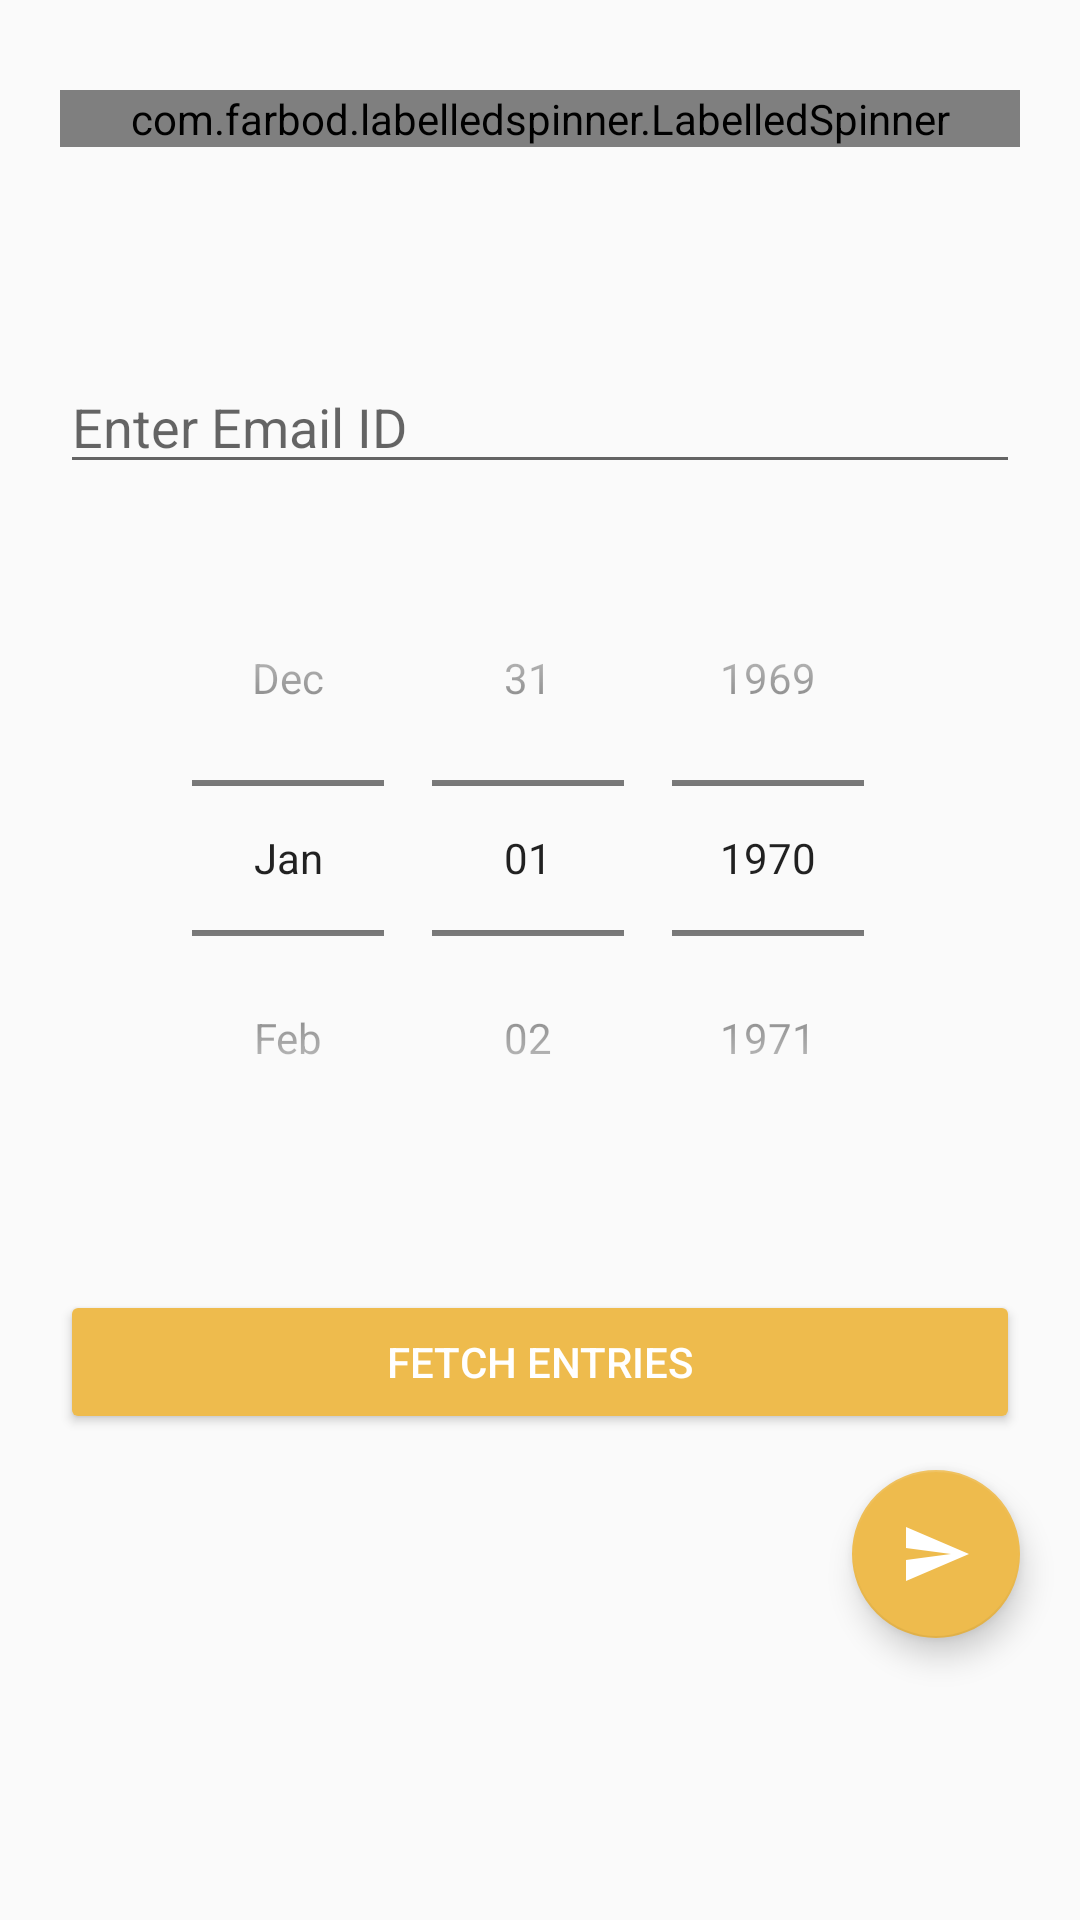

Icons on this 1080px×1920px Android screen, each with the point to tap as point (x, y):
send: point (936, 1554)
